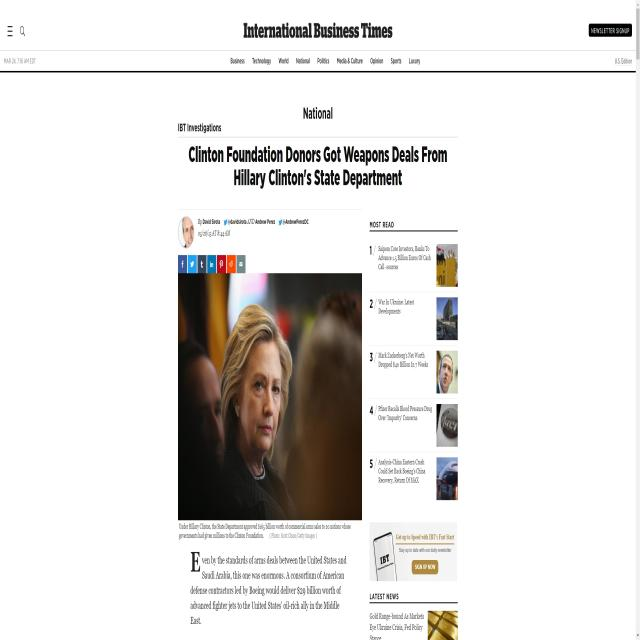tab-bar: (227, 52, 423, 69)
